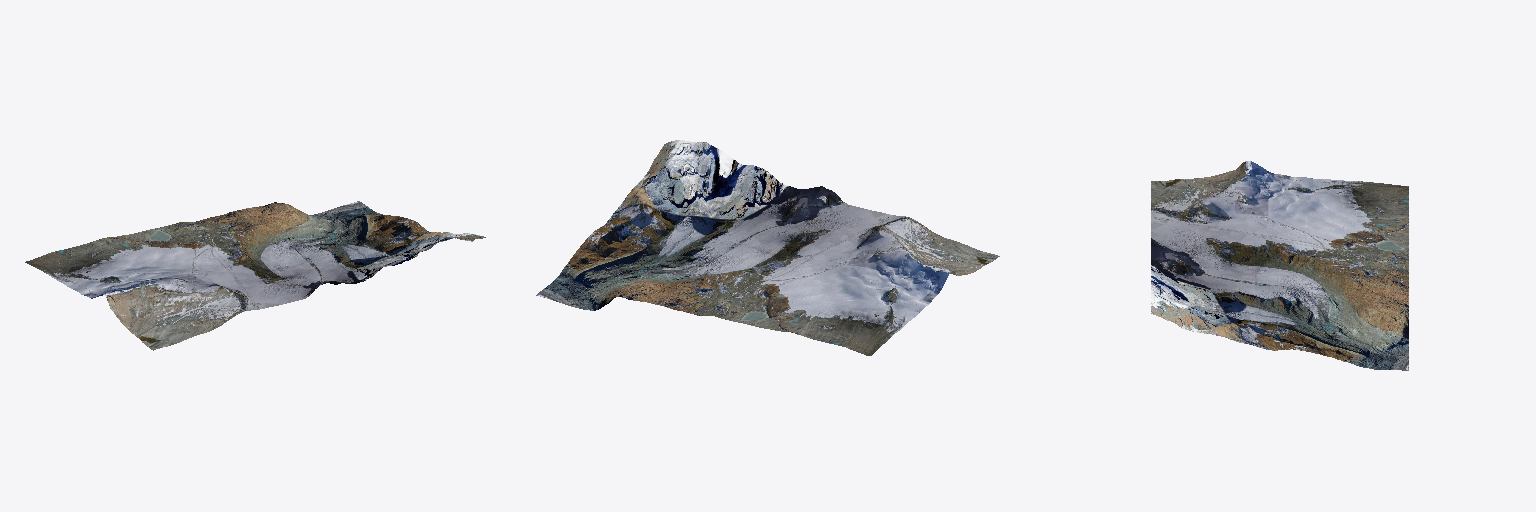
The picture shows the model from 3 angles: view 1: azimuth 30°, elevation 25°; view 2: azimuth 150°, elevation 25°; view 3: azimuth 270°, elevation 25°; orthographic projection.
Parts seen in each view (by area): view 1: EXPORT_GOOGLE_SAT_WM.012; view 2: EXPORT_GOOGLE_SAT_WM.012; view 3: EXPORT_GOOGLE_SAT_WM.012.
Part boxes in pixels (bbox=[...]): EXPORT_GOOGLE_SAT_WM.012: bbox=[25, 201, 485, 350]; EXPORT_GOOGLE_SAT_WM.012: bbox=[536, 140, 999, 355]; EXPORT_GOOGLE_SAT_WM.012: bbox=[1151, 161, 1408, 370].
Size of the model in its own units: 9124 by 1857 by 6083.
Materials: 1 (1 with a texture image).